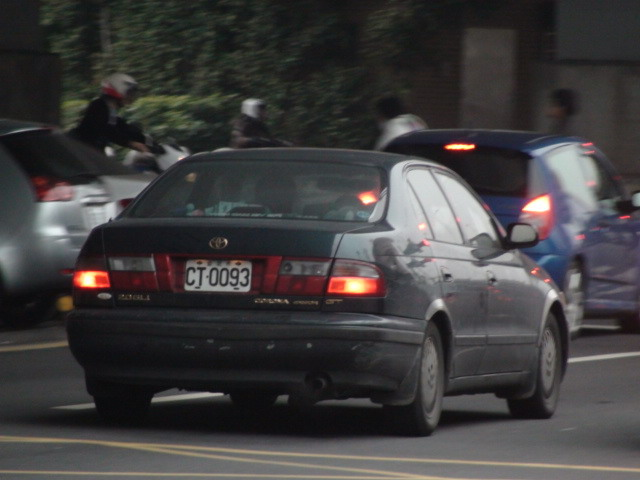plate: (182, 256, 254, 294)
